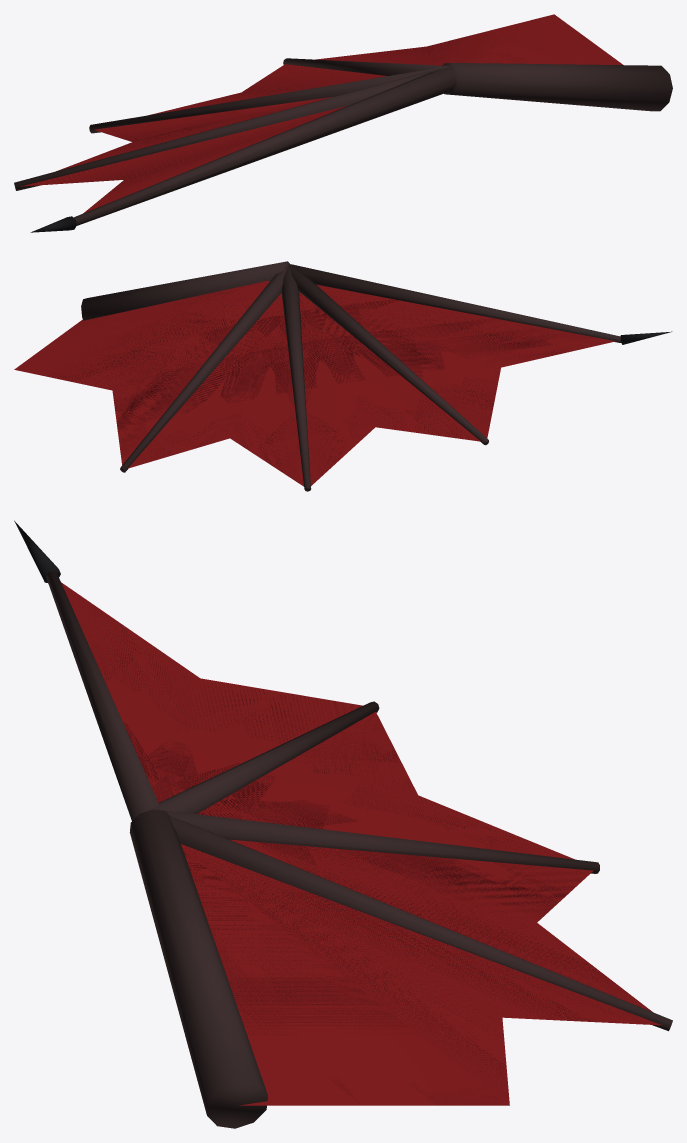
Rendered from thomas_wing_right.obj.
The picture shows the model from 3 angles, top to bottom: view 1: azimuth 30°, elevation 25°; view 2: azimuth 150°, elevation 25°; view 3: azimuth 270°, elevation 25°; orthographic projection. The views are drawn at different scales.
Bounding box in the file's own units: 4.5 × 0.9081 × 2.66.
